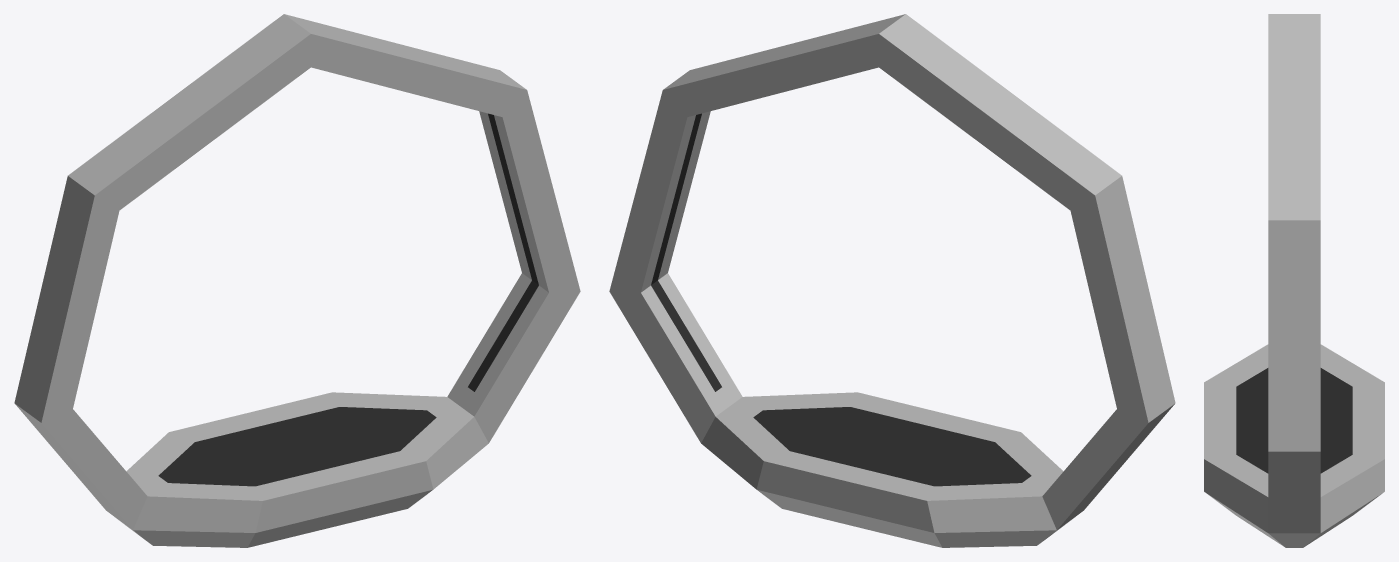
The model's file is tunnel.glb.
3 views of the same model, side by side, from view 1: azimuth 30°, elevation 25°; view 2: azimuth 150°, elevation 25°; view 3: azimuth 270°, elevation 25° (orthographic). The views are drawn at different scales.
Parts seen in each view (by area): view 1: Rib; view 2: Rib; view 3: Rib.
Part boxes in pixels (<box>): Rib: <box>14,14,580,547</box>; Rib: <box>609,14,1175,547</box>; Rib: <box>1204,14,1384,547</box>.
Size of what is drawn, in the model's own units: 7.22 by 6.17 by 2.18.
1 material, 1 textured.
